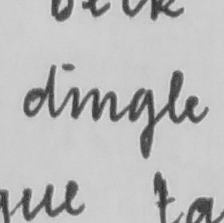d: (21, 62, 59, 121)
e: (182, 92, 212, 124)
g: (126, 85, 159, 160)
i: (63, 67, 84, 122)
l: (165, 67, 191, 127)
n: (87, 86, 121, 124)
